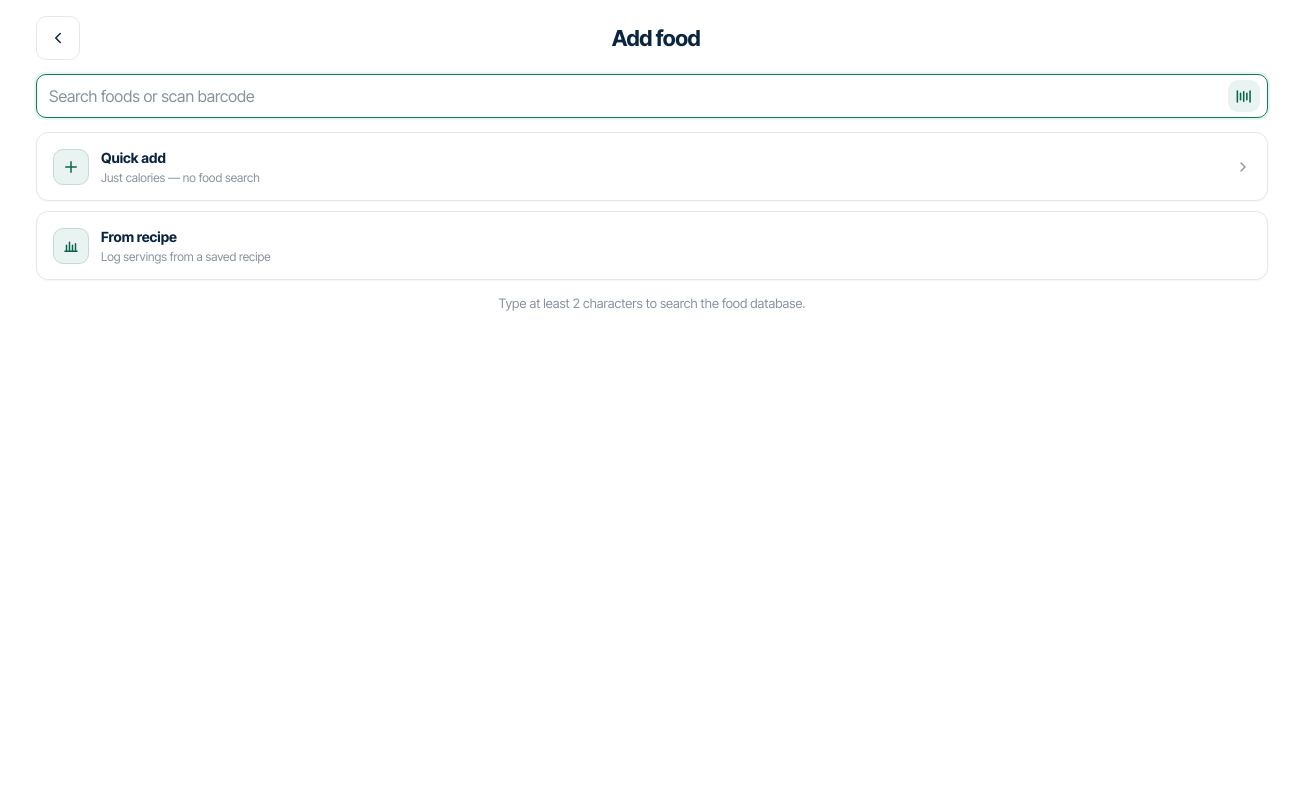
it: AddFood — moving between stages › returns to the results when backing out of a food, not to the dashboard
This screenshot has width=1292, height=800.
Step 1. Type "hummus" into the field with placeholder "Search foods or scan barcode" → (652, 96), box [36,74,1268,118]
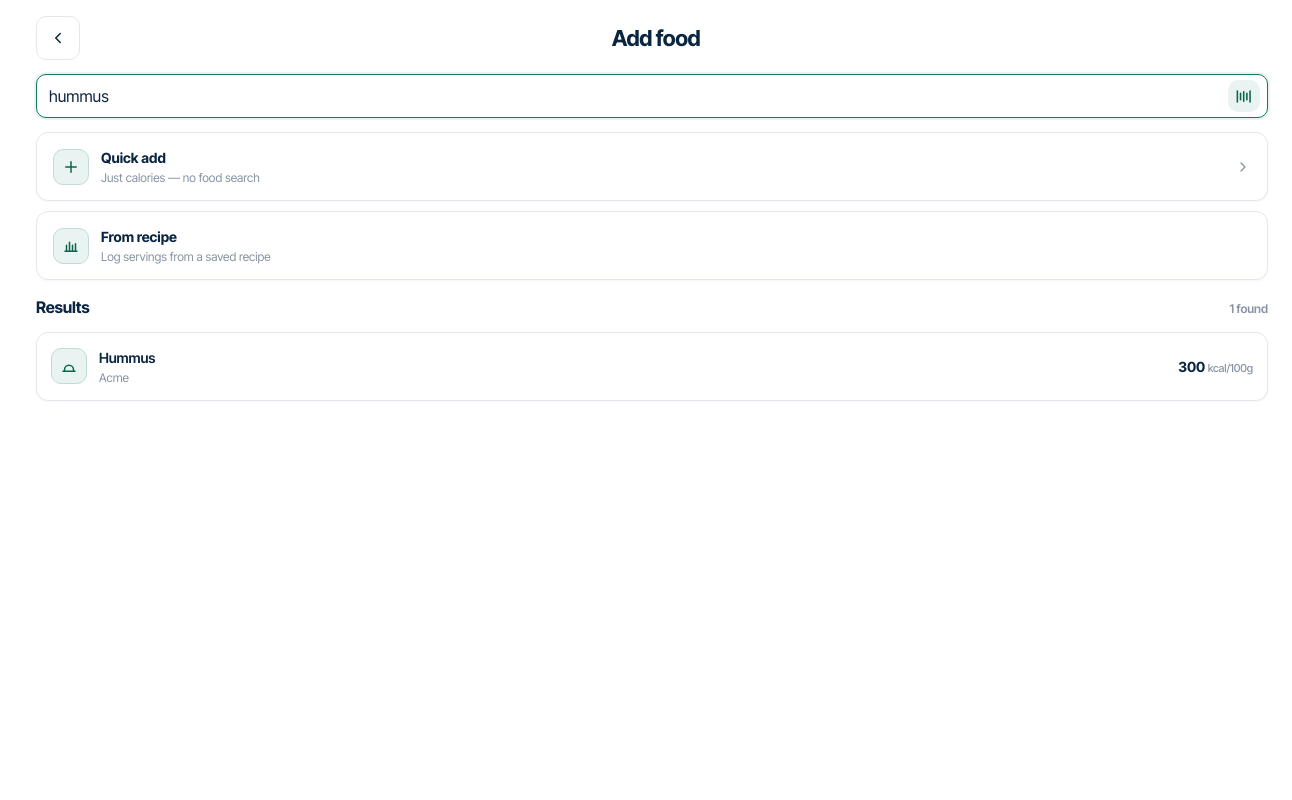
Step 2. Click the button "Hummus Acme 300 kcal/100g" → click(69, 366), box [37,333,1267,400]
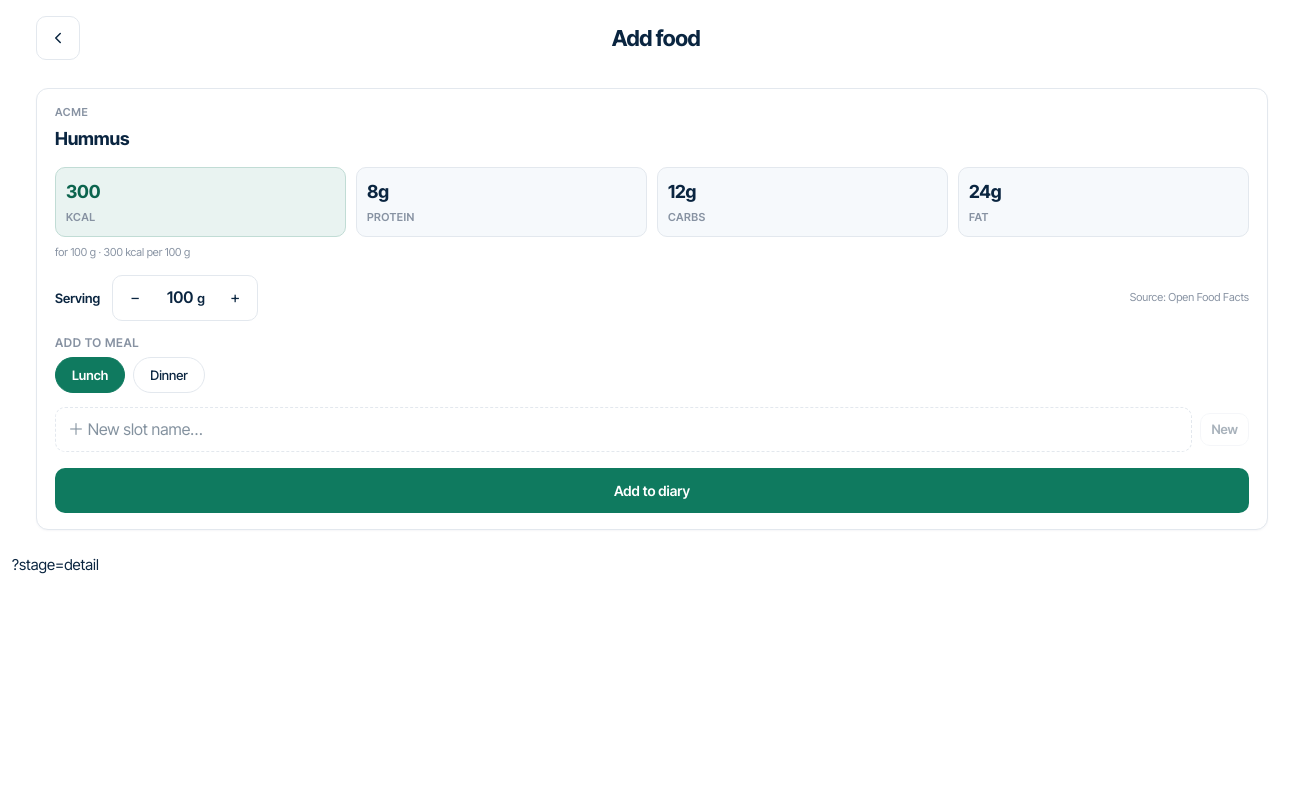
Expected: the text "Add to meal" is shown, [55,335,139,350]
Step 3. Click the button named "back" → click(58, 38), box [36,16,80,60]
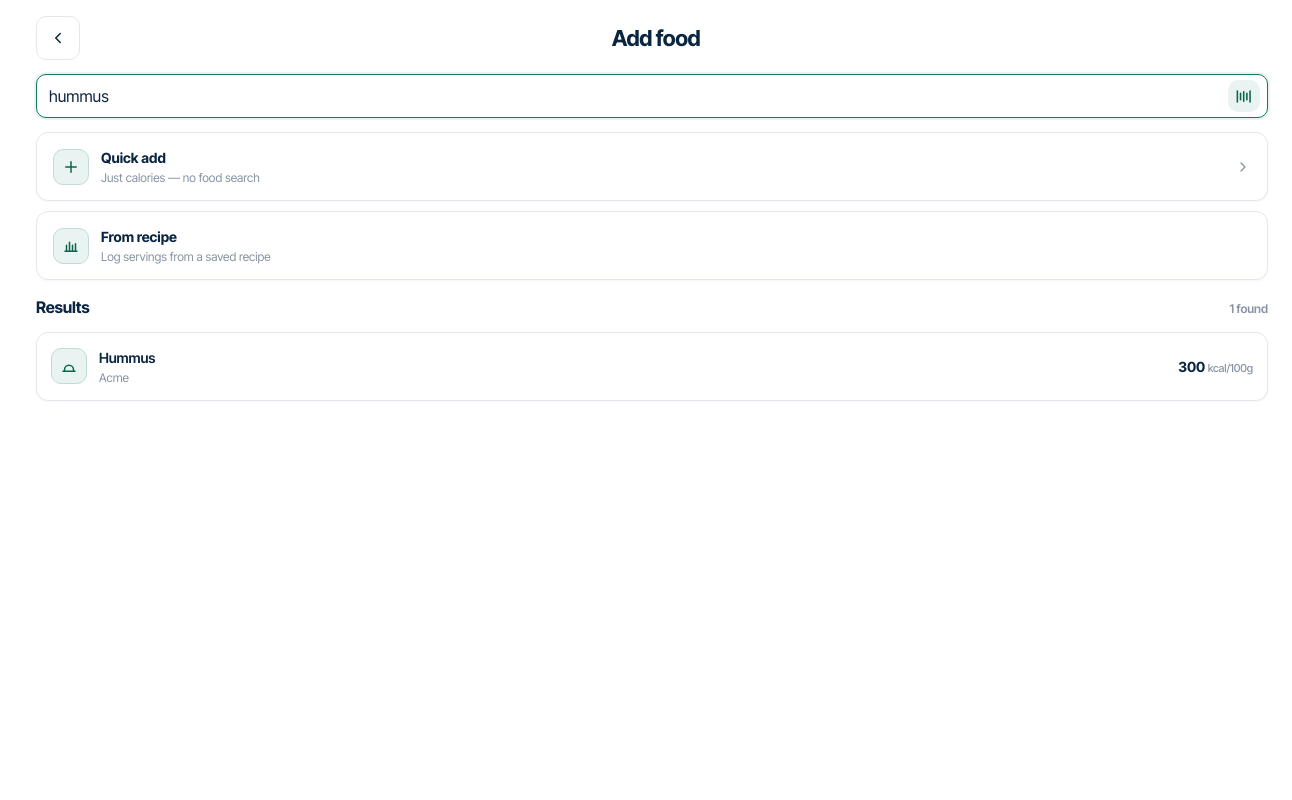
Expected: the button "Hummus Acme 300 kcal/100g" is shown, [37,333,1267,400]
Expected: the field with placeholder "Search foods or scan barcode" holds "hummus", [36,74,1268,118]
